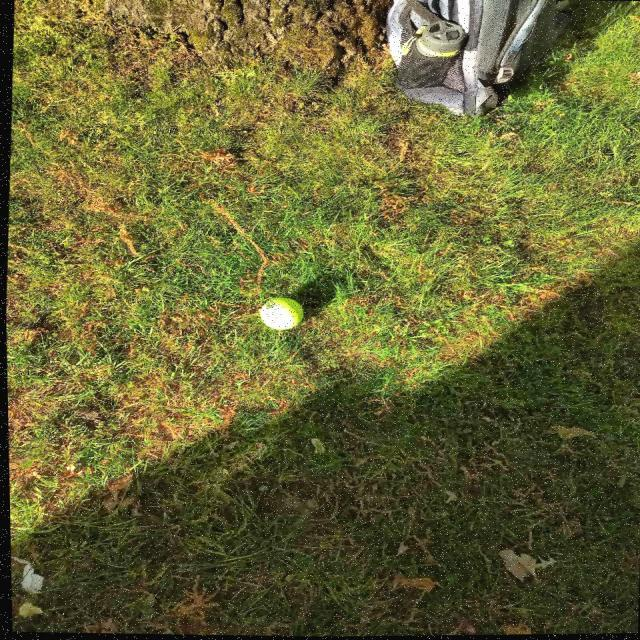tennis-ball: (252, 294, 306, 340)
